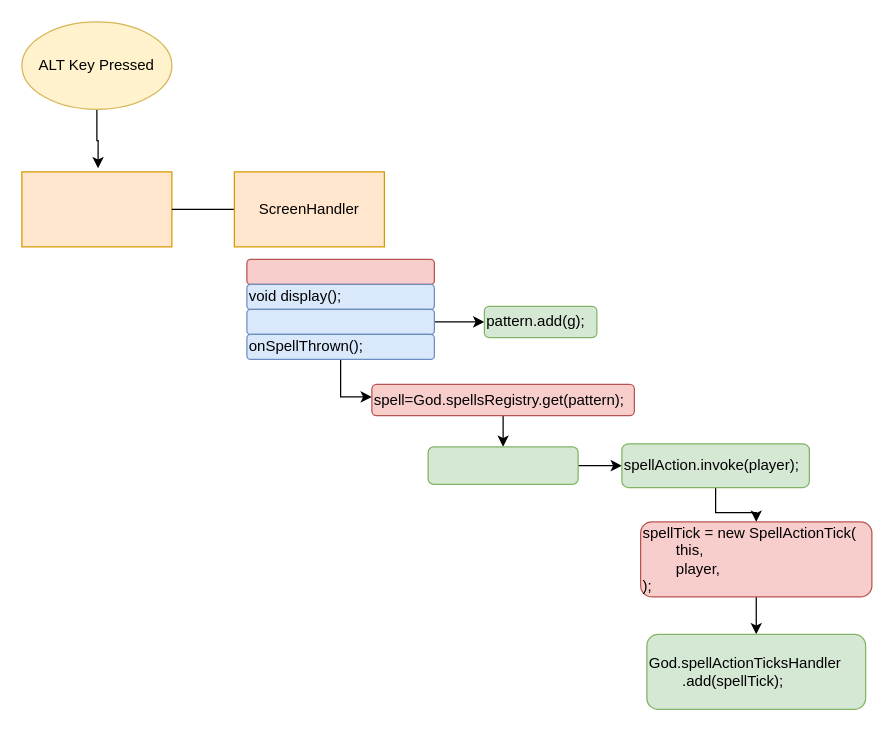
Some shapes in this 894 by 731 pixel diagram are drawn without their labels. The centre of each missing label's shape, as x and y in pixels:
GlyphPattern pattern: (x=340, y=271)
onGlyphSelected(Glyph g);: (x=340, y=321)
Open Screen: (x=96, y=209)
spell.invoke(player);: (x=502, y=465)
